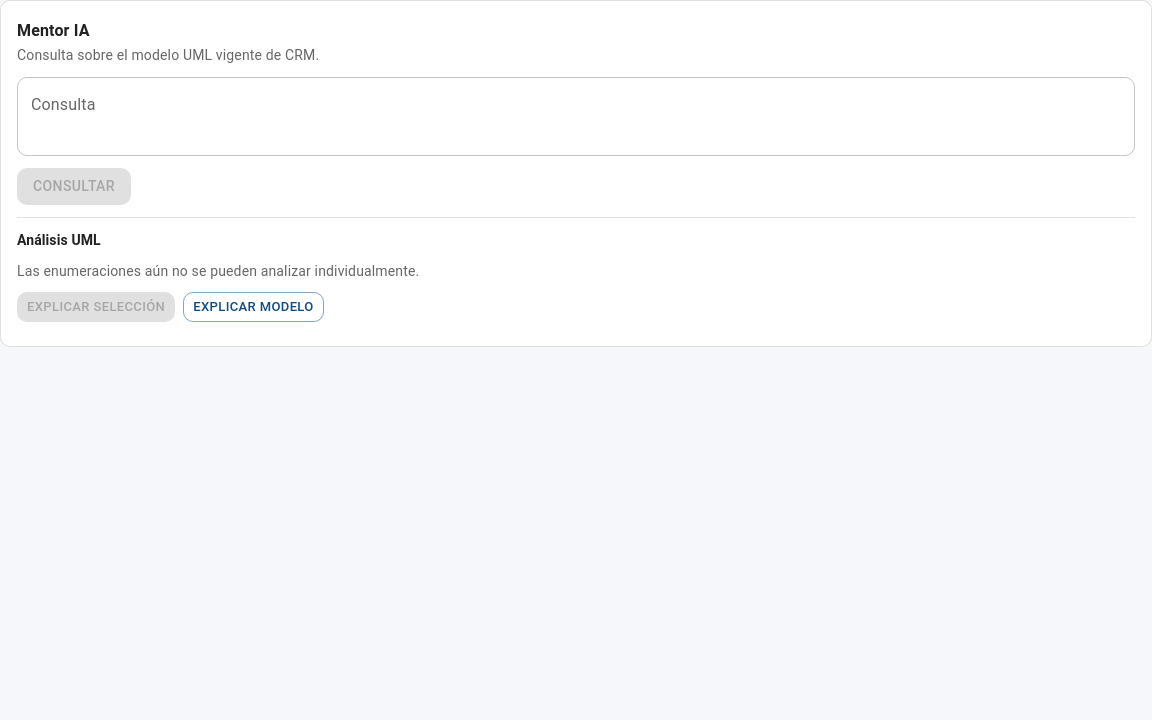
Test case: UmlAnalysisSection: selección › U-05: Explicar modelo envía { kind: model } con cualquier selección, incluida una enumeración
This screenshot has width=1152, height=720.
Click the button "Explicar modelo" at (253, 307), box [183,292,324,322]
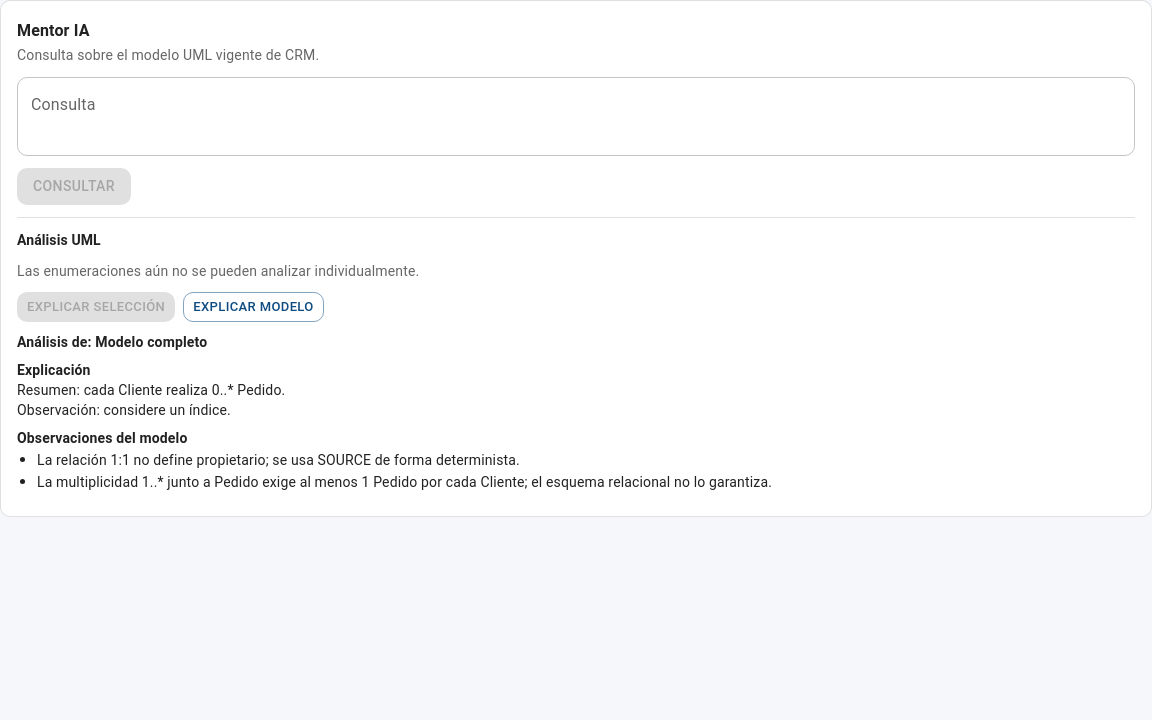
Expected: the text "Análisis de: Modelo completo" is shown, [17,334,207,350]
